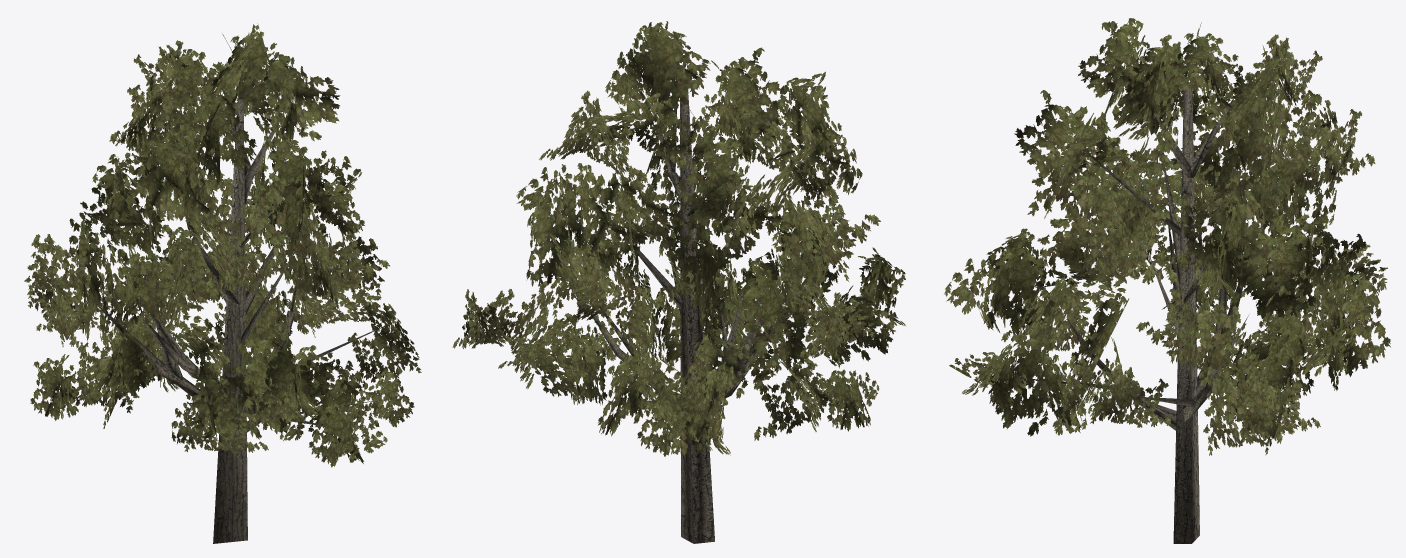
Rendered from Vegetation_Tree02_lod1.glb.
The picture shows the model from 3 angles, left to right: view 1: azimuth 30°, elevation 25°; view 2: azimuth 150°, elevation 25°; view 3: azimuth 270°, elevation 25°; orthographic projection. The views are drawn at different scales.
Visible parts, largest first — view 1: zw_tree02_lod1_0; view 2: zw_tree02_lod1_0; view 3: zw_tree02_lod1_0.
Part boxes in pixels (bbox=[...]): zw_tree02_lod1_0: bbox=[24, 23, 421, 543]; zw_tree02_lod1_0: bbox=[452, 21, 905, 543]; zw_tree02_lod1_0: bbox=[944, 18, 1390, 543].
Bounding box in the file's own units: 19.52 × 24.16 × 18.77.
Materials: 2 (2 with a texture image).
